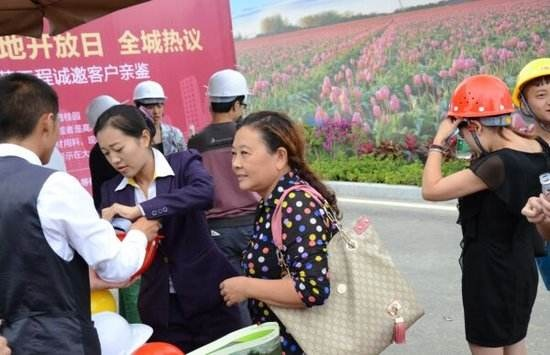none: (3, 70, 66, 171), (229, 112, 304, 195), (93, 105, 160, 180)
red: (447, 70, 514, 151)
white: (205, 66, 248, 120), (131, 80, 169, 126)
yellow: (511, 55, 550, 127)
